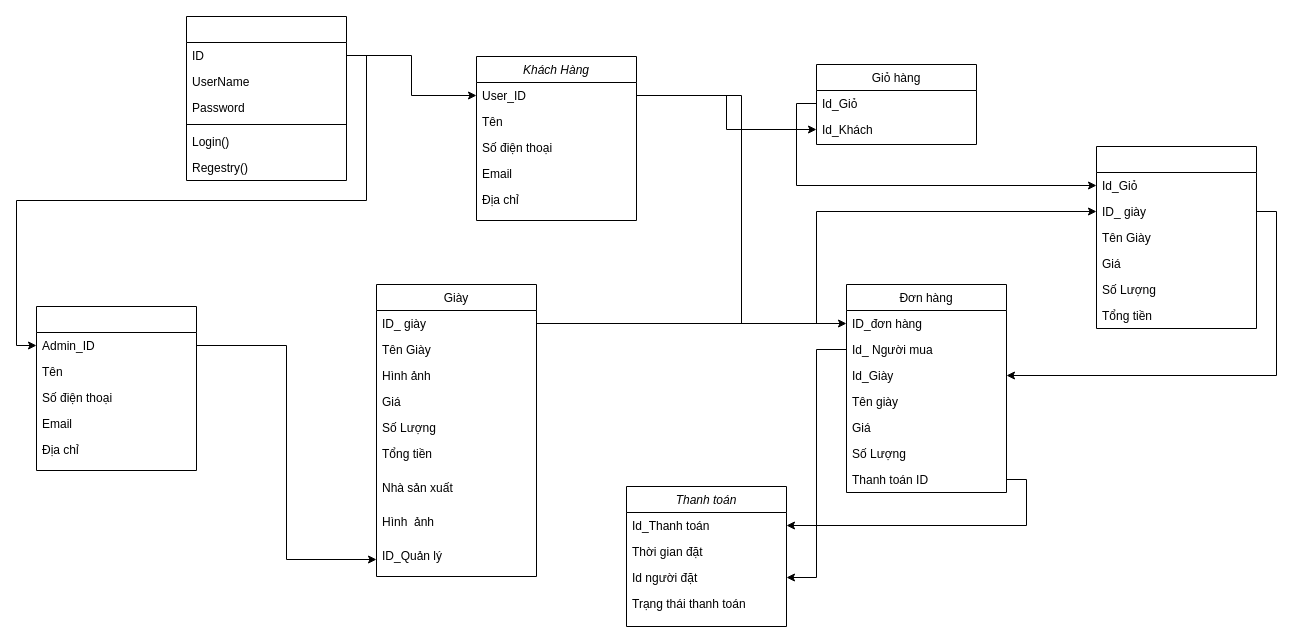
This 1293x643 diagram has some shape labels left out. The box of each missing label's shape, as (x1, y1, x2, y2) in pixels:
Chi tiết giỏ hàng: (1096, 146, 1256, 328)
Quản lý: (36, 306, 196, 470)
Đăng nhập: (186, 16, 346, 180)
